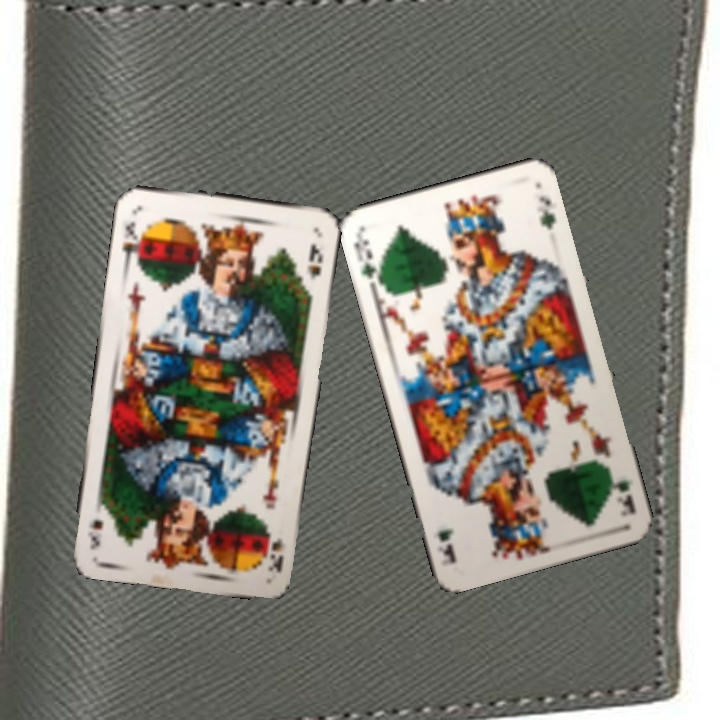GK: (349, 230, 387, 289), (603, 463, 639, 519)
SK: (119, 218, 145, 266), (263, 528, 287, 576)
